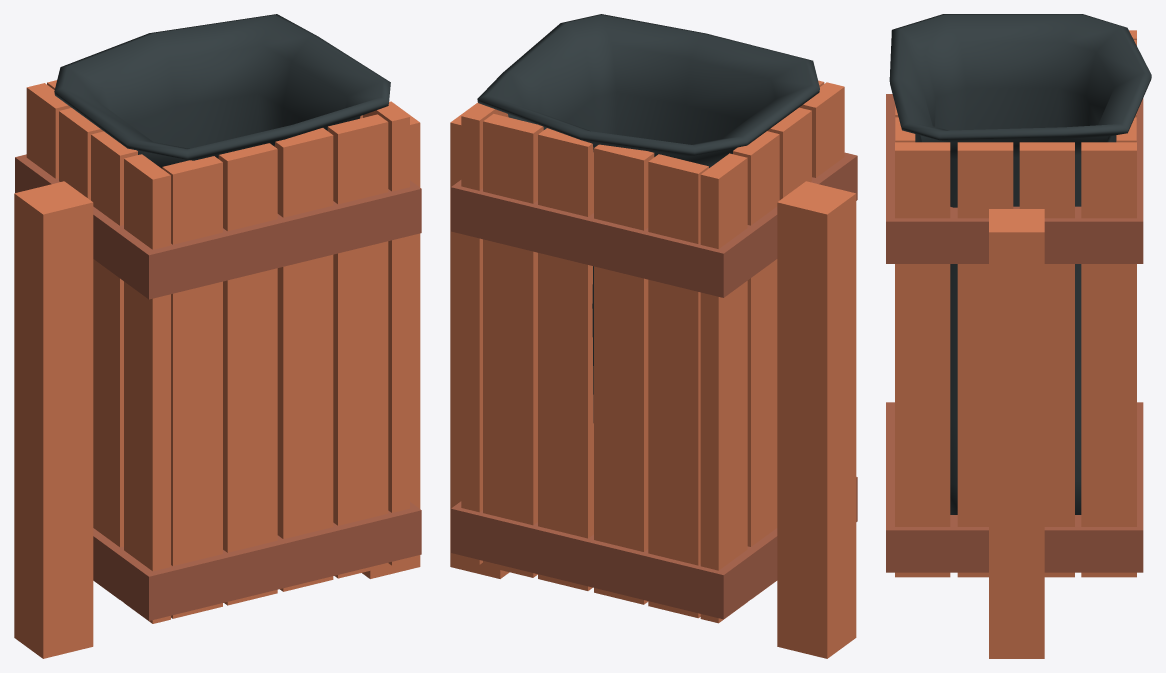
File: TrashCan_01.fbx
The picture shows the model from 3 angles, left to right: view 1: azimuth 30°, elevation 25°; view 2: azimuth 150°, elevation 25°; view 3: azimuth 270°, elevation 25°; orthographic projection. The views are drawn at different scales.
Visible parts, largest first — view 1: TrashCan_01; view 2: TrashCan_01; view 3: TrashCan_01.
Boxes of the visible parts, x1=… form: TrashCan_01: x1=14, y1=14, x2=421, y2=658; TrashCan_01: x1=450, y1=14, x2=857, y2=658; TrashCan_01: x1=886, y1=14, x2=1151, y2=658.
Bounding box in the file's own units: 0.7384 × 0.9724 × 0.4694.
